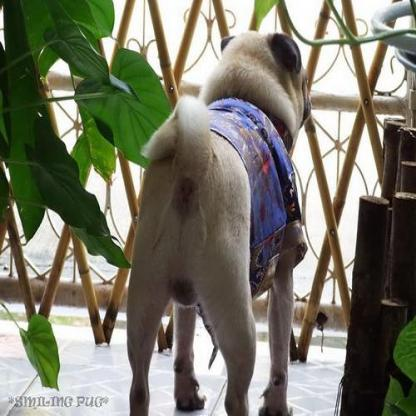pug: (124, 26, 313, 414)
